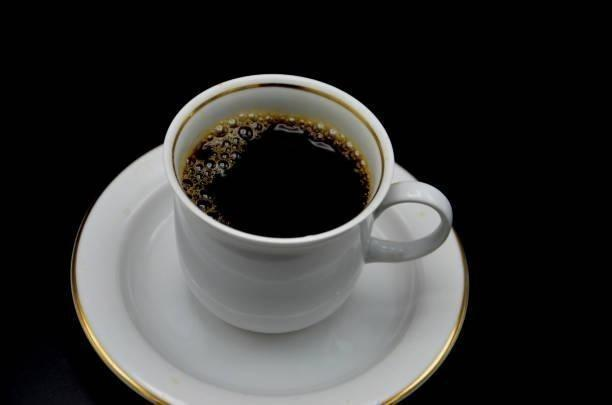cup-handle: (162, 72, 454, 337)
